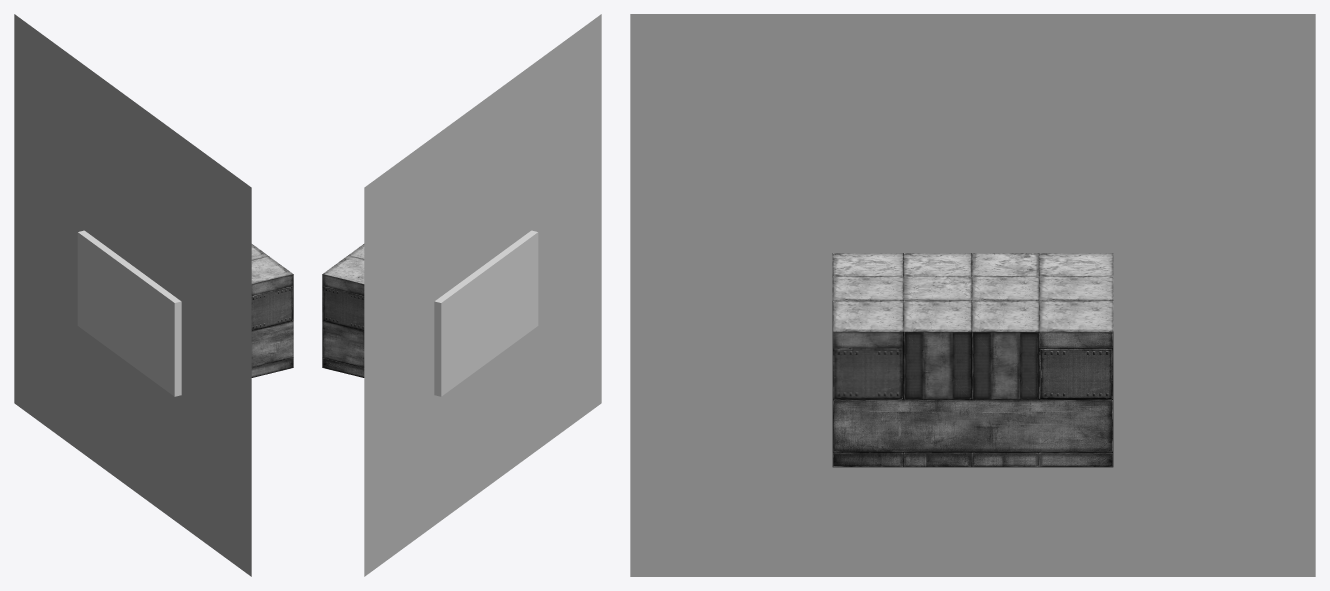
Rendered from InteractiveChamber_room2.fbx.
3 views of the same model, side by side, from view 1: azimuth 30°, elevation 25°; view 2: azimuth 150°, elevation 25°; view 3: azimuth 270°, elevation 25° (orthographic). The views are drawn at different scales.
Parts seen in each view (by area): view 1: room_pg_room2_bib, room_pg_room2_4thwall, room_pg_room2_walls; view 2: room_pg_room2_bib, room_pg_room2_4thwall, room_pg_room2_walls; view 3: room_pg_room2_bib, room_pg_room2_walls.
Boxes of the visible parts, x1,y1,x2,y2 form: room_pg_room2_bib: (14, 14, 251, 576); room_pg_room2_4thwall: (77, 230, 181, 396); room_pg_room2_walls: (251, 244, 293, 377); room_pg_room2_bib: (364, 14, 601, 576); room_pg_room2_4thwall: (434, 230, 538, 396); room_pg_room2_walls: (322, 244, 364, 377); room_pg_room2_bib: (630, 14, 1315, 576); room_pg_room2_walls: (832, 253, 1113, 467).
Bounding box in the file's own units: 3.18 × 11 × 9.97.
